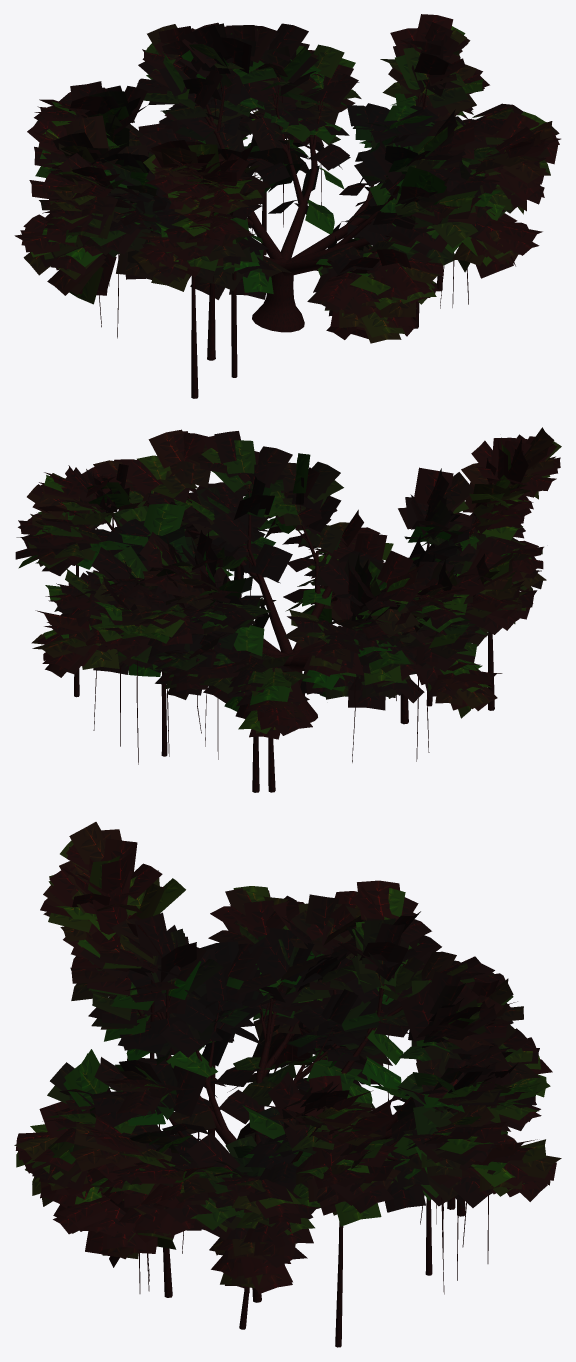
File: veg_banyan2.glb
The picture shows the model from 3 angles, top to bottom: view 1: azimuth 30°, elevation 25°; view 2: azimuth 150°, elevation 25°; view 3: azimuth 270°, elevation 25°; orthographic projection. The views are drawn at different scales.
Visible parts, largest first — view 1: banyan_2; view 2: banyan_2; view 3: banyan_2.
Boxes of the visible parts, x1,y1,x2,y2 form: banyan_2: (14, 14, 560, 398); banyan_2: (15, 427, 561, 792); banyan_2: (14, 822, 561, 1347).
Size of the model in its own units: 29.98 by 16.38 by 25.42.
Materials: 2 (2 with a texture image).
